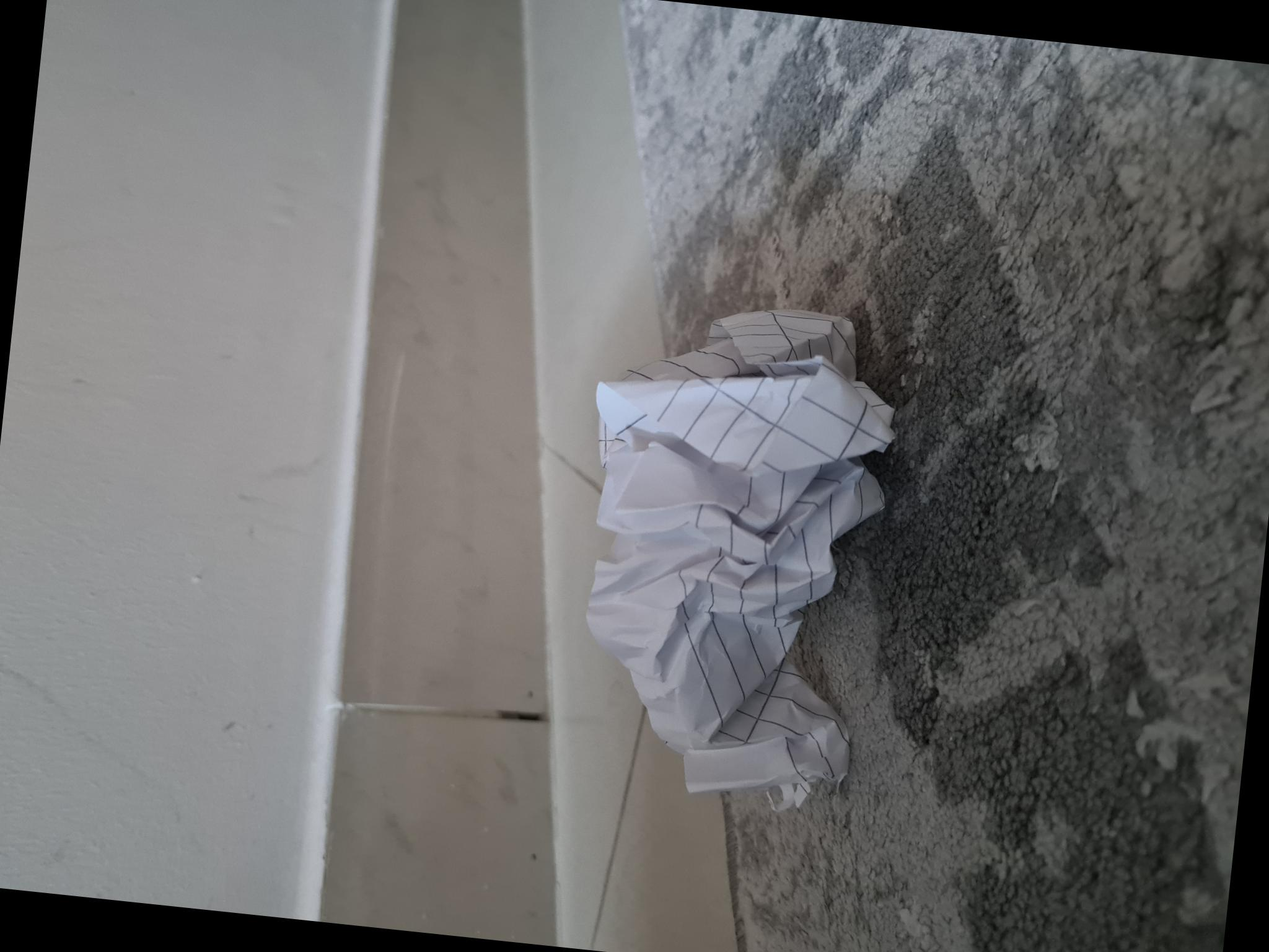Kertas: (127, 570, 626, 876)
